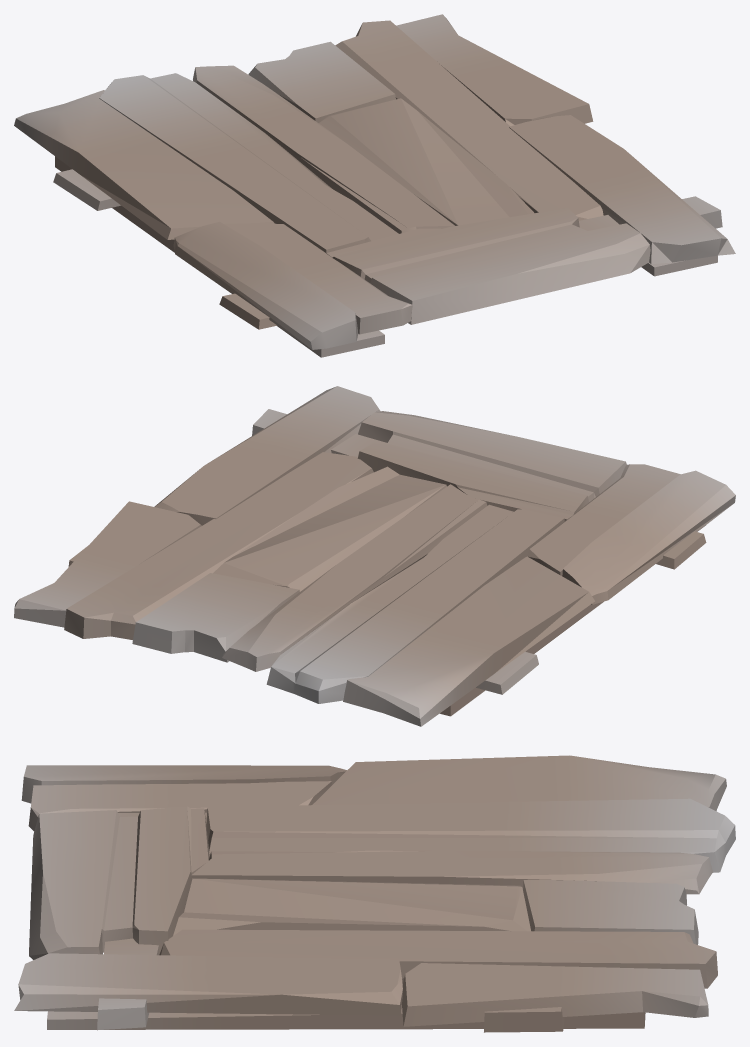
The model's file is Terrain_Stage2_Decoration_10.fbx.
3 views of the same model, one above another, from view 1: azimuth 30°, elevation 25°; view 2: azimuth 150°, elevation 25°; view 3: azimuth 270°, elevation 25° (orthographic). The views are drawn at different scales.
Visible parts, largest first — view 1: terrain_wood_405_LOD0; view 2: terrain_wood_405_LOD0; view 3: terrain_wood_405_LOD0.
Boxes of the visible parts, x1,y1,x2,y2 form: terrain_wood_405_LOD0: (14, 14, 735, 357); terrain_wood_405_LOD0: (14, 386, 735, 726); terrain_wood_405_LOD0: (14, 755, 735, 1032).
Bounding box in the file's own units: 1302 × 112 × 1549.
1 material, 1 textured.
